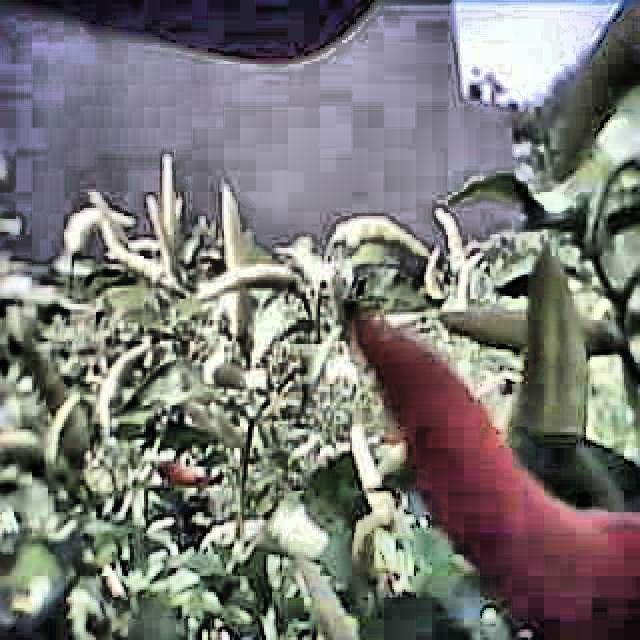Cabai: (372, 436, 630, 640)
